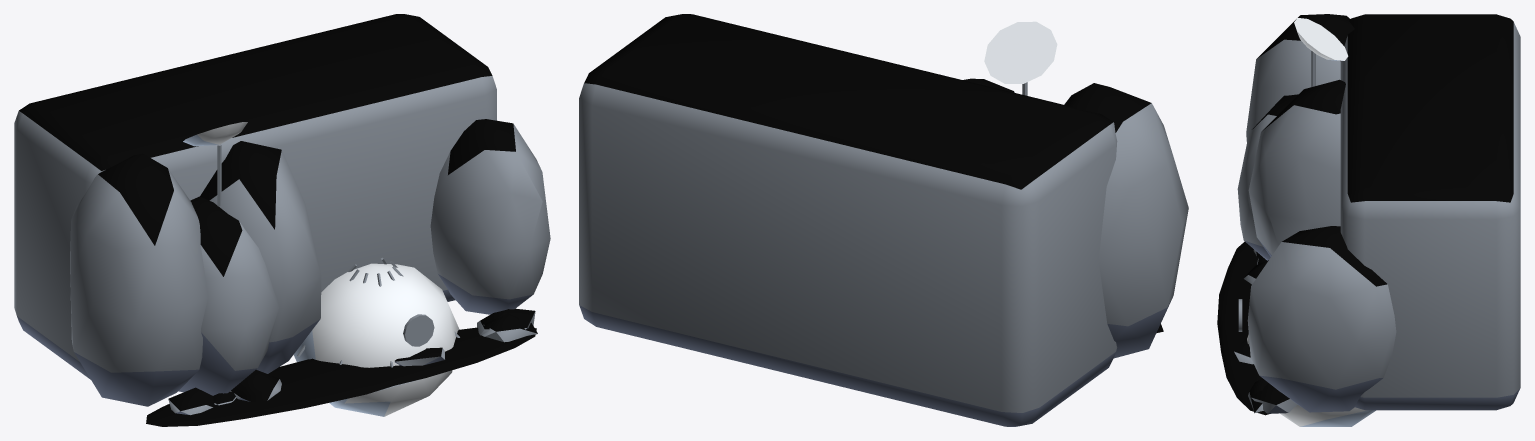
Rendered from CraterWallB.fbx.
3 renders of one model, left to right at view 1: azimuth 30°, elevation 25°; view 2: azimuth 150°, elevation 25°; view 3: azimuth 270°, elevation 25°, orthographic. The views are drawn at different scales.
Parts seen in each view (by area): view 1: CraterWallB; view 2: CraterWallB; view 3: CraterWallB.
Part boxes in pixels (box(x1,y1,x2,y2)): CraterWallB: box(14, 14, 550, 426); CraterWallB: box(579, 14, 1188, 426); CraterWallB: box(1217, 14, 1520, 426).
Size of the model in its own units: 8.58 by 5.95 by 5.06.
1 material, 1 textured.
